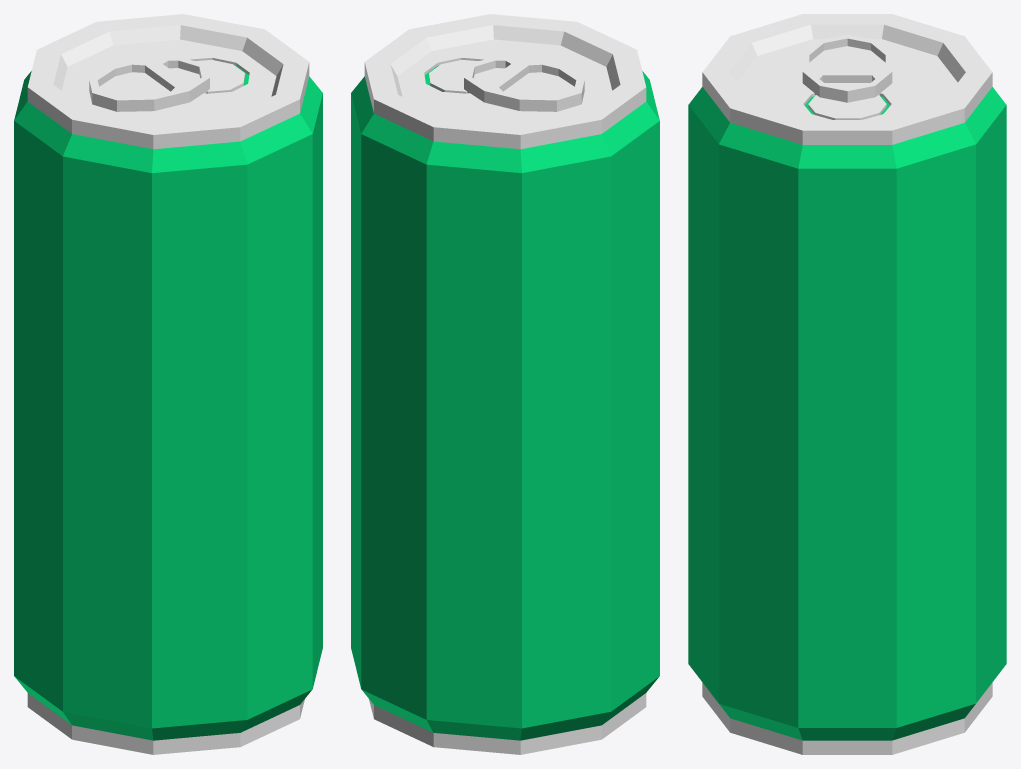
Rendered from lataderefresco.fbx.
The picture shows the model from 3 angles, left to right: view 1: azimuth 30°, elevation 25°; view 2: azimuth 150°, elevation 25°; view 3: azimuth 270°, elevation 25°; orthographic projection.
Parts seen in each view (by area): view 1: Cylinder, Cylinder.001, Cylinder.002; view 2: Cylinder, Cylinder.001, Cylinder.002; view 3: Cylinder, Cylinder.001, Cylinder.002.
Part boxes in pixels (x1,y1,x2,y2): Cylinder: [14, 65, 322, 740]; Cylinder.001: [27, 14, 309, 754]; Cylinder.002: [89, 57, 209, 111]; Cylinder: [351, 65, 659, 740]; Cylinder.001: [364, 14, 646, 754]; Cylinder.002: [464, 57, 584, 111]; Cylinder: [688, 87, 1006, 740]; Cylinder.001: [702, 14, 992, 754]; Cylinder.002: [802, 34, 892, 102].
Size of the model in its own units: 190 by 433 by 200.
